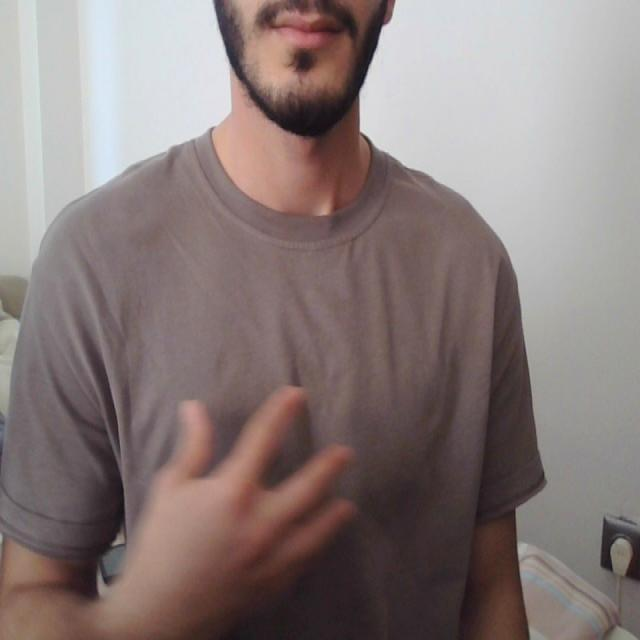Anne: (64, 377, 503, 622)
